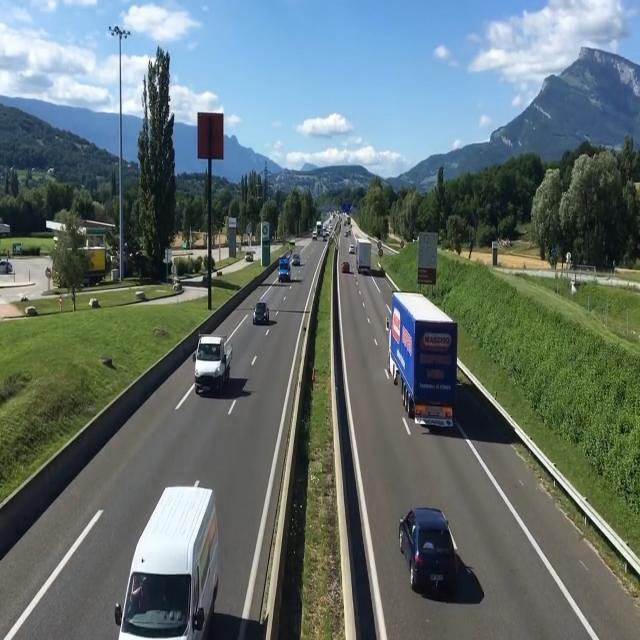car: (115, 478, 219, 638), (396, 508, 475, 612), (193, 321, 239, 406), (252, 294, 276, 329), (273, 250, 296, 286)
truck: (392, 287, 457, 440), (353, 232, 376, 276)
